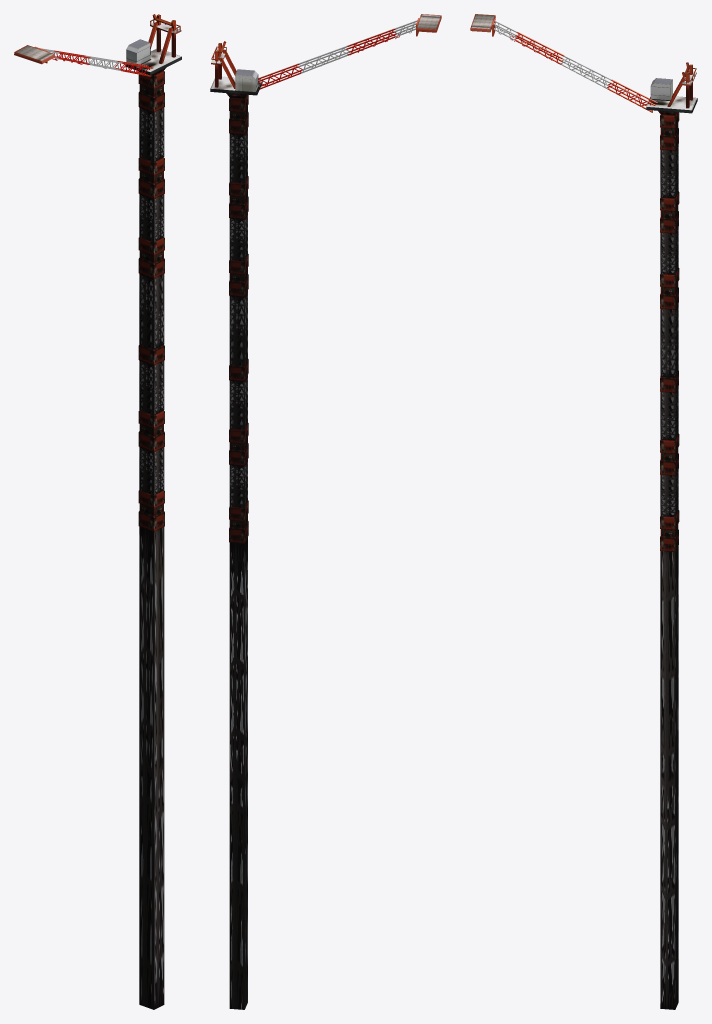
The model's file is kure-n5.obj.
3 renders of one model, left to right at view 1: azimuth 30°, elevation 25°; view 2: azimuth 150°, elevation 25°; view 3: azimuth 330°, elevation 25°, orthographic. The views are drawn at different scales.
Size of the model in its own units: 50.27 by 248 by 26.81.
3 materials, 3 textured.
